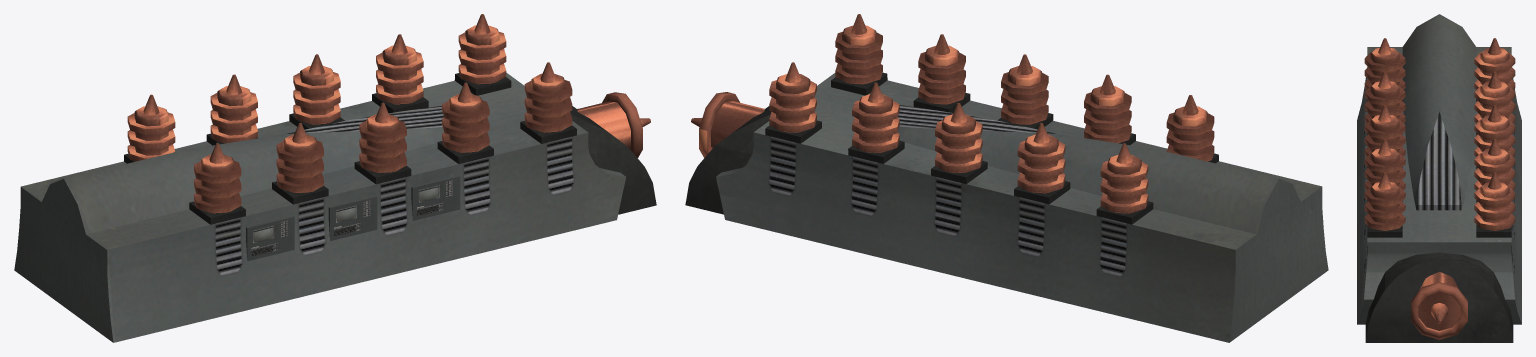
The model's file is ShipGenerator.fbx.
3 renders of one model, left to right at view 1: azimuth 30°, elevation 25°; view 2: azimuth 150°, elevation 25°; view 3: azimuth 270°, elevation 25°, orthographic. The views are drawn at different scales.
Parts seen in each view (by area): view 1: Engine; view 2: Engine; view 3: Engine.
Part boxes in pixels (left/top/right/bottom): Engine: left=14, top=14, right=656, bottom=342; Engine: left=685, top=14, right=1328, bottom=342; Engine: left=1357, top=14, right=1521, bottom=342.
Size of the model in its own units: 533 by 137 by 156.
1 material, 1 textured.
